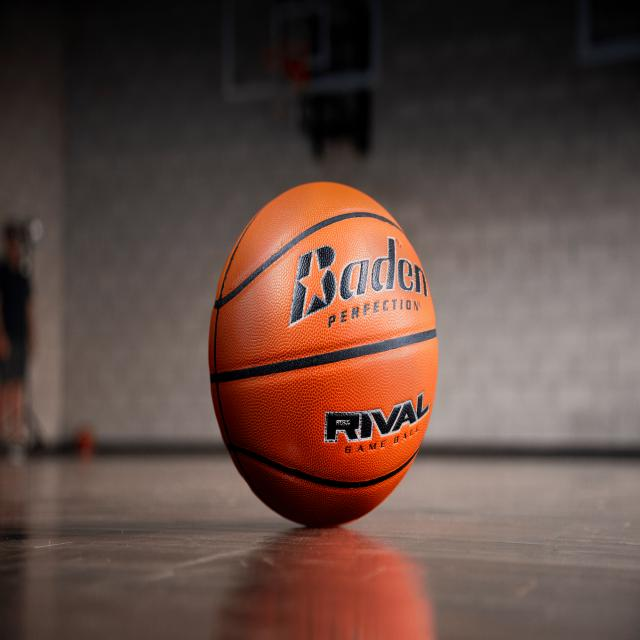non_orange: (208, 166, 468, 544)
